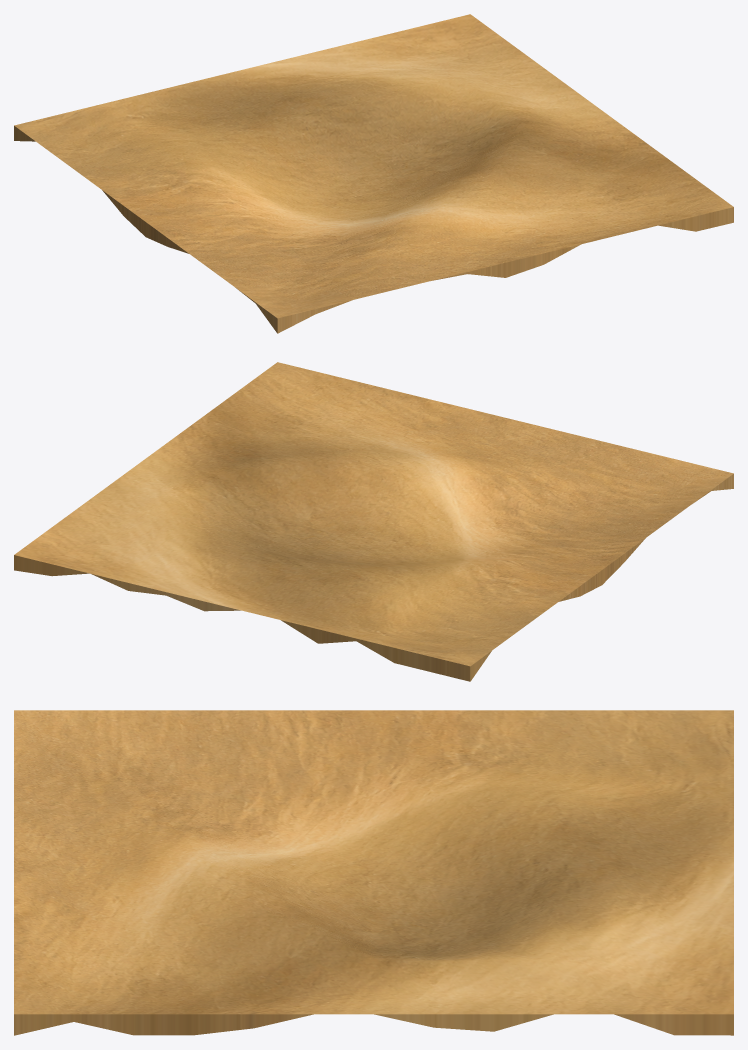
3 renders of one model, top to bottom at view 1: azimuth 30°, elevation 25°; view 2: azimuth 150°, elevation 25°; view 3: azimuth 270°, elevation 25°, orthographic. The views are drawn at different scales.
Parts seen in each view (by area): view 1: desert-ground; view 2: desert-ground; view 3: desert-ground.
Part boxes in pixels (x1,y1,x2,y2): desert-ground: (14, 14, 733, 333); desert-ground: (14, 362, 733, 681); desert-ground: (14, 710, 733, 1035).
Bounding box in the file's own units: 32 × 2.27 × 32.
1 material, 1 textured.
